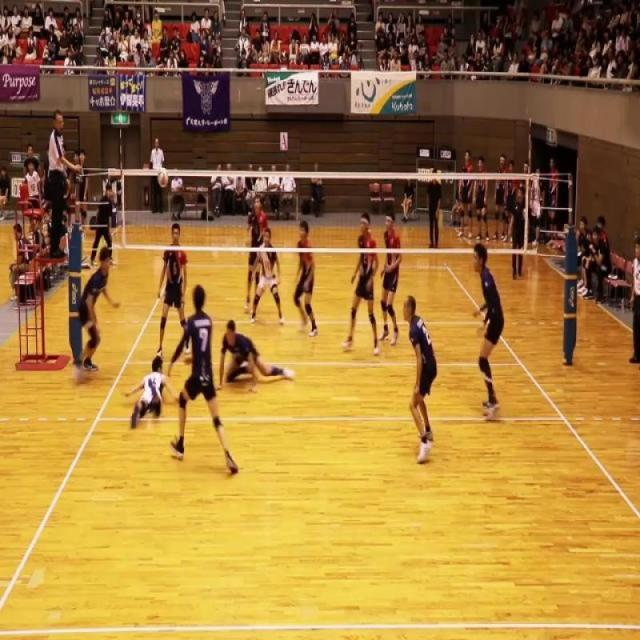volleyball: (158, 166, 170, 188)
